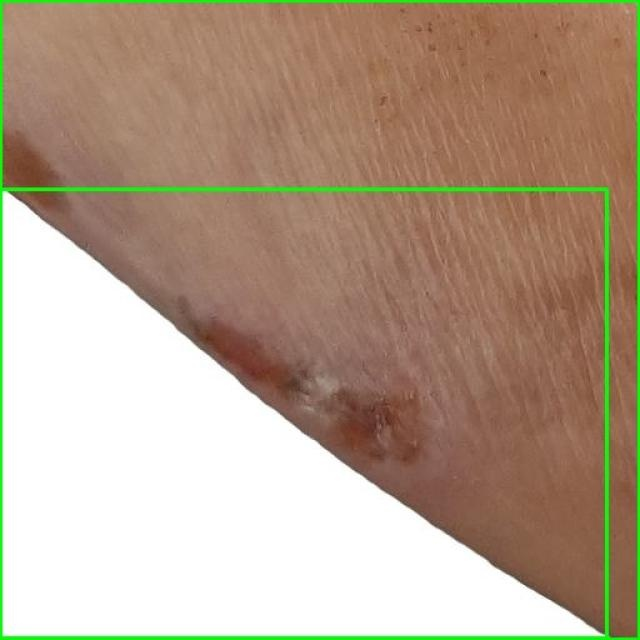Scabies: (0, 0, 639, 639), (0, 190, 608, 639)
